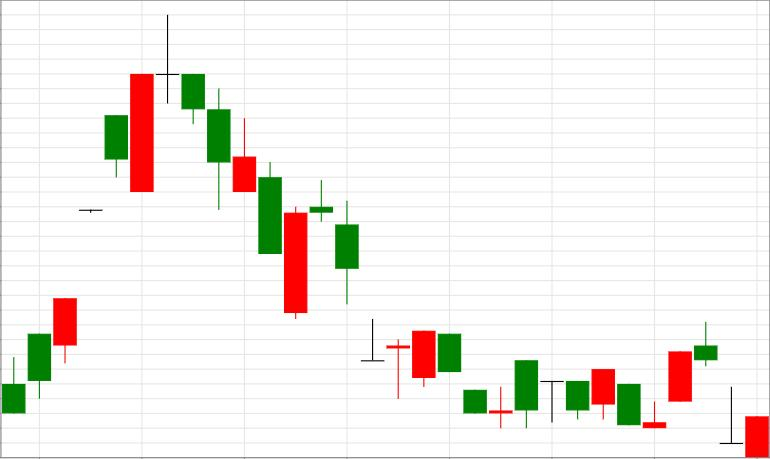evening_star_fall: (1, 15, 205, 413)
